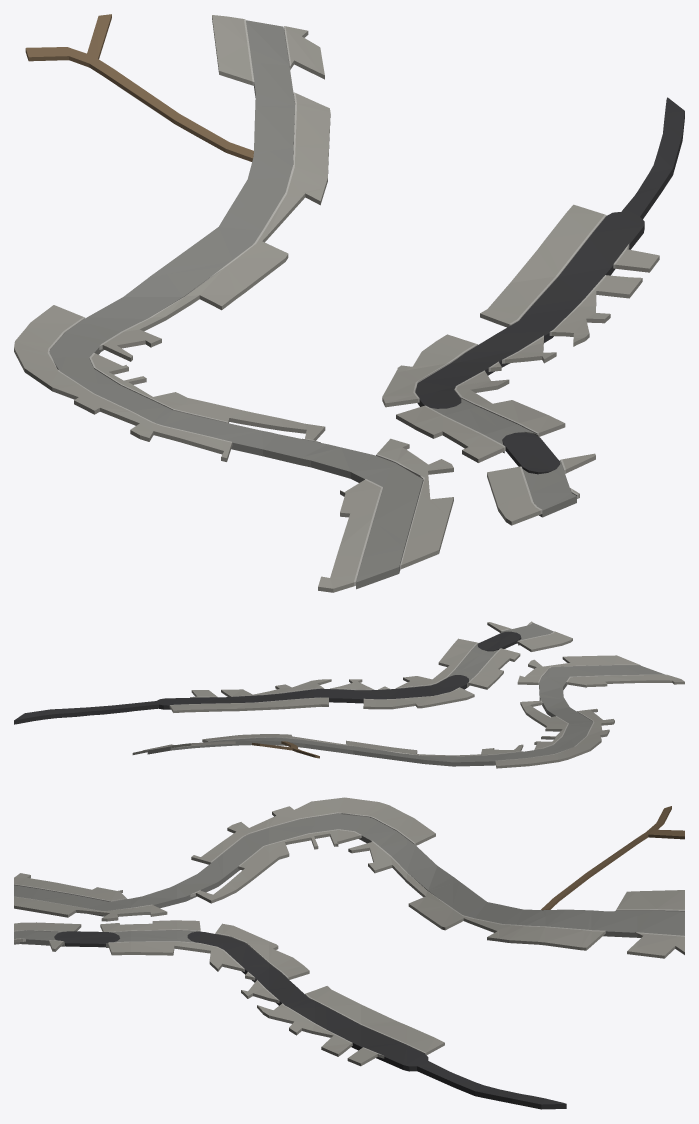
3 renders of one model, top to bottom at view 1: azimuth 30°, elevation 25°; view 2: azimuth 150°, elevation 25°; view 3: azimuth 270°, elevation 25°, orthographic. The views are drawn at different scales.
Size of the model in its own units: 144 by 31.78 by 146.
